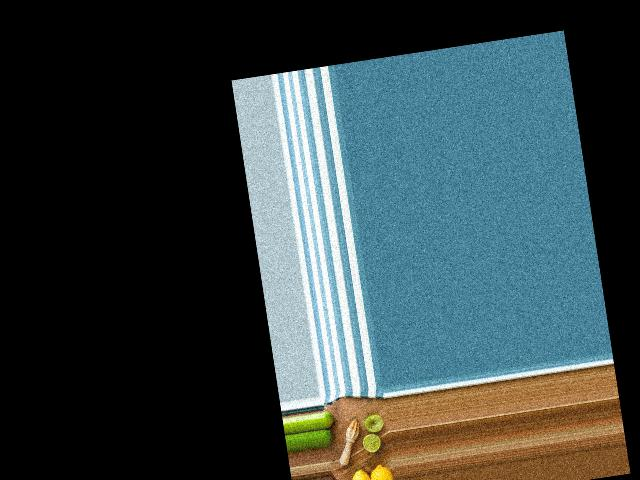lemon: (366, 459, 395, 480)
